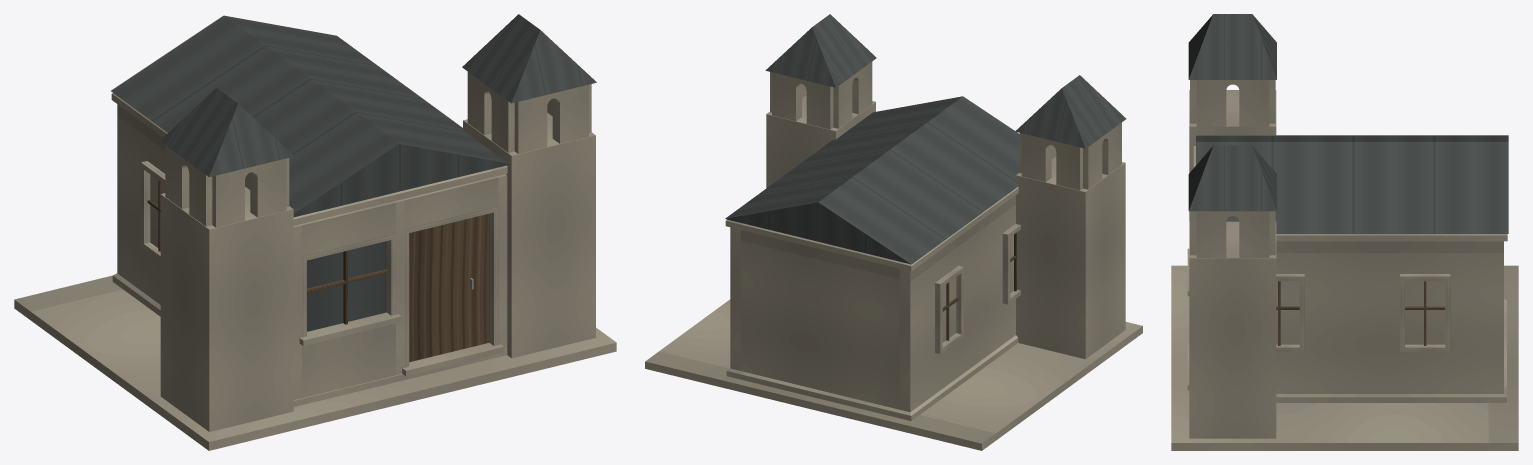
File: panama-city.glb
3 views of the same model, side by side, from view 1: azimuth 30°, elevation 25°; view 2: azimuth 150°, elevation 25°; view 3: azimuth 270°, elevation 25° (orthographic). The views are drawn at different scales.
Parts seen in each view (by area): view 1: panama-city; view 2: panama-city; view 3: panama-city.
Boxes of the visible parts, x1=… form: panama-city: x1=14, y1=14, x2=616, y2=450; panama-city: x1=645, y1=14, x2=1142, y2=450; panama-city: x1=1171, y1=14, x2=1518, y2=450.
Size of the model in its own units: 5.8 by 4.31 by 4.8.
Materials: 1 (1 with a texture image).
